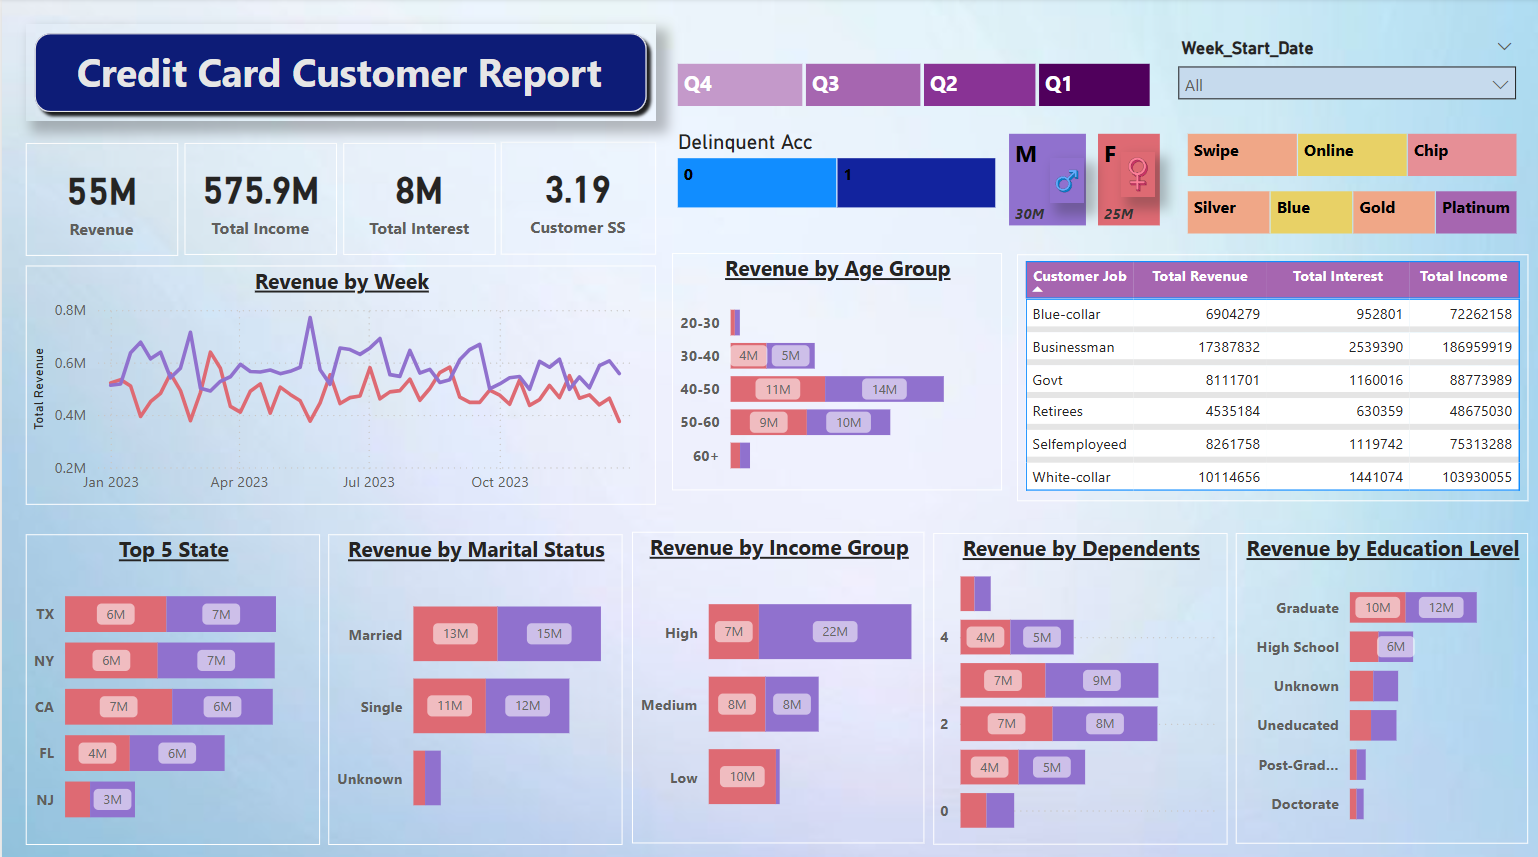

The dashboard page shown, as its layout file describes it:
{"tool":"powerbi","page":{"name":"Credit Card Customer Report","canvas":[1280,720],"ordinal":1},"visuals":[{"type":"barChart","title":"Revenue by Income Group","fields":{"Y":["Sum(cc_detail.Revenue)"],"Category":["cust_detail.IncomeGroup"],"Series":["cust_detail.Gender"]},"box":[521.9,442.5,242.5,258.8],"z":0},{"type":"tableEx","fields":{"Values":["cust_detail.Customer_Job","Sum(cc_detail.Revenue)","Sum(cc_detail.Interest_Earned)","Sum(cust_detail.Income)"]},"box":[841.2,212.5,423.8,205],"z":1000},{"type":"card","title":"Revenue","fields":{"Values":["Sum(cc_detail.Revenue)"]},"box":[20,120,126,93.8],"z":2000},{"type":"card","fields":{"Values":["Sum(cust_detail.Income)"]},"box":[151.3,120.6,126.5,93],"z":3000},{"type":"card","fields":{"Values":["Sum(cc_detail.Interest_Earned)"]},"box":[282.8,120.6,126.5,93],"z":4000},{"type":"card","fields":{"Values":["Avg(cust_detail.Cust_Satisfaction_Score)"]},"box":[413.8,118.8,128.8,93.8],"z":5000},{"type":"shape","box":[19.8,22.1,522.1,80.2],"z":6000},{"type":"textbox","box":[57,33.7,465.1,57],"z":7000},{"type":"slicer","fields":{"Values":["cc_detail.Week_Start_Date"]},"box":[965,27.5,300,67.5],"z":8000},{"type":"treemap","fields":{"Values":["Avg(cc_detail.Client_Num)"],"Group":["cc_detail.New_Qtr"]},"box":[555,50,401.2,45],"z":9000},{"type":"treemap","fields":{"Values":["Avg(cc_detail.Client_Num)"],"Group":["cc_detail.Card_Category"]},"box":[978.8,155,282.5,45],"z":10000},{"type":"lineChart","title":"Revenue by Week","fields":{"Y":["Sum(cc_detail.Revenue)"],"Series":["cust_detail.Gender"],"Category":["cc_detail.Week_Start_Date.Variation.Date Hierarchy.Year","cc_detail.Week_Start_Date.Variation.Date Hierarchy.Month","cc_detail.Week_Start_Date.Variation.Date Hierarchy.Day"]},"box":[20,221.2,522.5,198.8],"z":11000},{"type":"group","id":"g1","title":"Group 1","box":[830,107.5,135,86],"z":12000},{"type":"barChart","title":"Revenue by Age Group","fields":{"Y":["Sum(cc_detail.Revenue)"],"Category":["cust_detail.AgeGroup"],"Series":["cust_detail.Gender"]},"box":[555,211.7,273.3,196.7],"z":13000},{"type":"barChart","title":"Revenue by Dependents","fields":{"Y":["Sum(cc_detail.Revenue)"],"Series":["cust_detail.Gender"],"Category":["cust_detail.Dependent_Count"]},"box":[771.6,443.4,243.8,258.8],"z":14000},{"type":"barChart","title":"Revenue by Education Level","fields":{"Y":["Sum(cc_detail.Revenue)"],"Category":["cust_detail.Education_Level"],"Series":["cust_detail.Gender"]},"box":[1022.5,443.8,242.5,257.5],"z":15000},{"type":"treemap","fields":{"Group":["cust_detail.Gender"],"Values":["Sum(cc_detail.Revenue)"]},"box":[830,107.5,135,86],"z":16000,"group":"g1"},{"type":"barChart","title":"Top 5 State","fields":{"Y":["Sum(cc_detail.Revenue)"],"Category":["cust_detail.state_cd"],"Series":["cust_detail.Gender"]},"box":[20,444.4,243.8,257.5],"z":16000},{"type":"barChart","title":"Revenue by Marital Status","fields":{"Y":["Sum(cc_detail.Revenue)"],"Category":["cust_detail.Marital_Status"],"Series":["cust_detail.Gender"]},"box":[270.9,444.1,243.8,257.5],"z":17000},{"type":"treemap","fields":{"Values":["Avg(cc_detail.Client_Num)"],"Group":["cc_detail.Use_Chip"]},"box":[978.8,107.5,282.5,45],"z":18000},{"type":"treemap","title":"Delinquent Acc","fields":{"Values":["Avg(cc_detail.Client_Num)"],"Group":["cc_detail.Delinquent_Acc"]},"box":[555,108.3,273.3,70],"z":19000},{"type":"group","id":"g2","title":"Group 2","box":[868,127.5,88,42.4],"z":19002,"group":"g1"},{"type":"image","box":[927,127.5,29,37.7],"z":20500,"group":"g2"},{"type":"image","box":[868,132.2,29,37.7],"z":21000,"group":"g2"}]}

Visuals, with their boxes in screenshot pixels (x1, y1, x2, y2), scaled from the page's 1280x720 canvas onto the 1538x857 screenshot:
"Revenue by Income Group" barChart: 627:527:918:835
tableEx - cust_detail.Customer_Job x Sum(cc_detail.Revenue): 1011:253:1520:497
"Revenue" card: 24:143:175:254
card - Sum(cust_detail.Income): 182:144:334:254
card - Sum(cc_detail.Interest_Earned): 340:144:492:254
card - Avg(cust_detail.Cust_Satisfaction_Score): 497:141:652:253
shape: 24:26:651:122
textbox: 68:40:627:108
slicer - cc_detail.Week_Start_Date: 1160:33:1520:113
treemap - Avg(cc_detail.Client_Num) x cc_detail.New_Qtr: 667:60:1149:113
treemap - Avg(cc_detail.Client_Num) x cc_detail.Card_Category: 1176:184:1516:238
"Revenue by Week" lineChart: 24:263:652:500
"Group 1" group: 997:128:1160:230
"Revenue by Age Group" barChart: 667:252:995:486
"Revenue by Dependents" barChart: 927:528:1220:836
"Revenue by Education Level" barChart: 1229:528:1520:835
treemap - cust_detail.Gender x Sum(cc_detail.Revenue): 997:128:1160:230
"Top 5 State" barChart: 24:529:317:835
"Revenue by Marital Status" barChart: 326:529:618:835
treemap - Avg(cc_detail.Client_Num) x cc_detail.Use_Chip: 1176:128:1516:182
"Delinquent Acc" treemap: 667:129:995:212
"Group 2" group: 1043:152:1149:202
image: 1114:152:1149:197
image: 1043:157:1078:202
